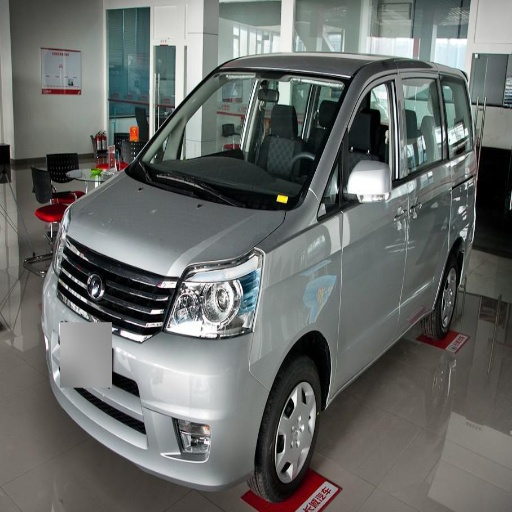front_bumper: (45, 244, 284, 494)
front_glass: (126, 70, 352, 206)
front_left_door: (337, 73, 418, 374)
